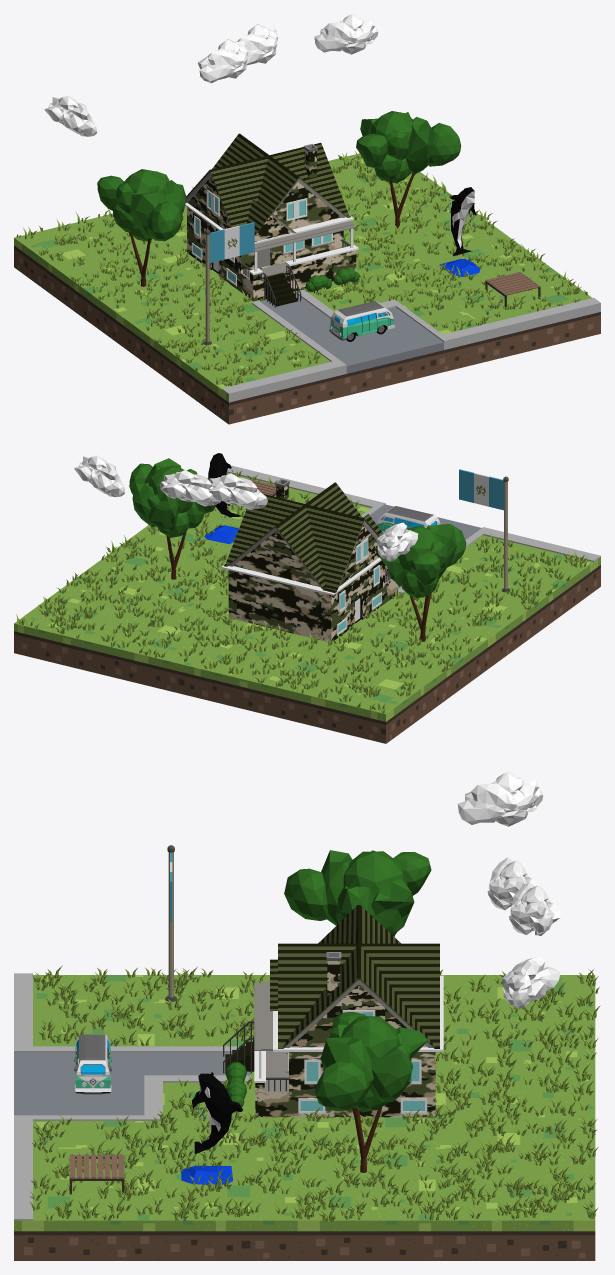
3 renders of one model, top to bottom at view 1: azimuth 30°, elevation 25°; view 2: azimuth 150°, elevation 25°; view 3: azimuth 270°, elevation 25°, orthographic. The views are drawn at different scales.
Parts seen in each view (by area): view 1: Cube.006, Cube.001, Circle.012_Grass_0.192, Cube.007, tree, tree.001, OBJRANDOM_GUATEMALAN_FLAG, VEHICLES_VAN, ANIMAL_ORCA, Cube.009; view 2: Cube.006, Cube.001, Circle.012_Grass_0.192, Cube.007, tree.001, tree, OBJRANDOM_GUATEMALAN_FLAG, ANIMAL_ORCA, VEHICLES_VAN; view 3: Cube.006, Circle.012_Grass_0.192, Cube.001, tree, Cube.007, tree.001, ANIMAL_ORCA, VEHICLES_VAN, Cube.009, OBJRANDOM_GUATEMALAN_FLAG.
Part boxes in pixels (box(x1,y1,x2,y2)): Cube.006: box(14, 153, 600, 424); Cube.001: box(185, 133, 358, 307); Circle.012_Grass_0.192: box(16, 151, 587, 386); Cube.007: box(44, 14, 378, 136); tree: box(356, 111, 460, 228); tree.001: box(97, 169, 186, 286); OBJRANDOM_GUATEMALAN_FLAG: box(203, 222, 254, 345); VEHICLES_VAN: box(329, 301, 395, 341); ANIMAL_ORCA: box(439, 187, 480, 276); Cube.009: box(485, 272, 540, 306); Cube.006: box(14, 465, 600, 743); Cube.001: box(221, 479, 397, 642); Circle.012_Grass_0.192: box(16, 470, 587, 713); Cube.007: box(74, 455, 418, 561); tree.001: box(374, 524, 466, 641); tree: box(129, 458, 216, 579); OBJRANDOM_GUATEMALAN_FLAG: box(459, 469, 510, 592); ANIMAL_ORCA: box(204, 453, 243, 544); VEHICLES_VAN: box(377, 506, 440, 532); Cube.006: box(14, 973, 595, 1260); Circle.012_Grass_0.192: box(29, 965, 600, 1221); Cube.001: box(223, 905, 443, 1117); tree: box(314, 1012, 428, 1172); Cube.007: box(457, 772, 560, 1009); tree.001: box(284, 850, 431, 936); ANIMAL_ORCA: box(181, 1072, 242, 1184); VEHICLES_VAN: box(74, 1034, 111, 1094); Cube.009: box(69, 1154, 124, 1194); OBJRANDOM_GUATEMALAN_FLAG: box(165, 845, 177, 1001).
Size of the model in its own units: 4071 by 2192 by 4040.
39 materials, 5 textured.
